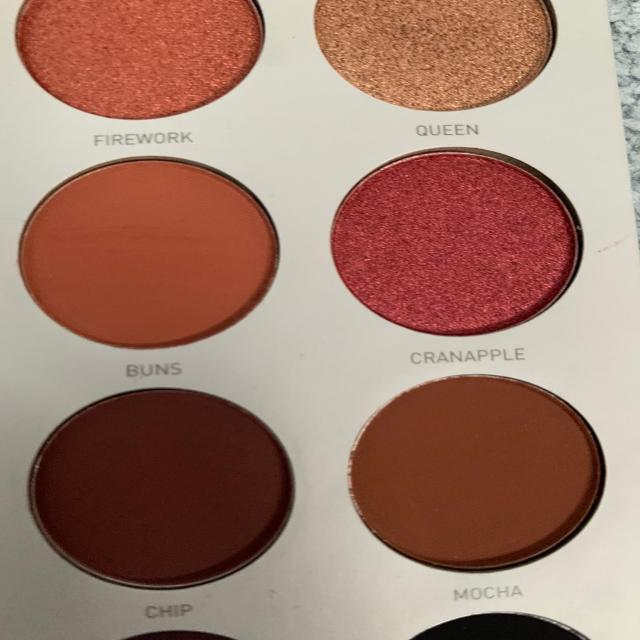eye shade: (19, 382, 299, 592), (13, 149, 284, 357), (347, 377, 609, 579), (326, 149, 586, 339), (313, 0, 572, 122), (7, 0, 268, 119), (399, 607, 610, 640), (105, 627, 260, 640)
